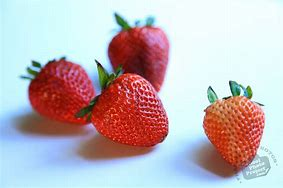Fresa: (90, 71, 173, 150), (26, 57, 98, 128), (107, 21, 173, 94), (203, 93, 266, 169)
